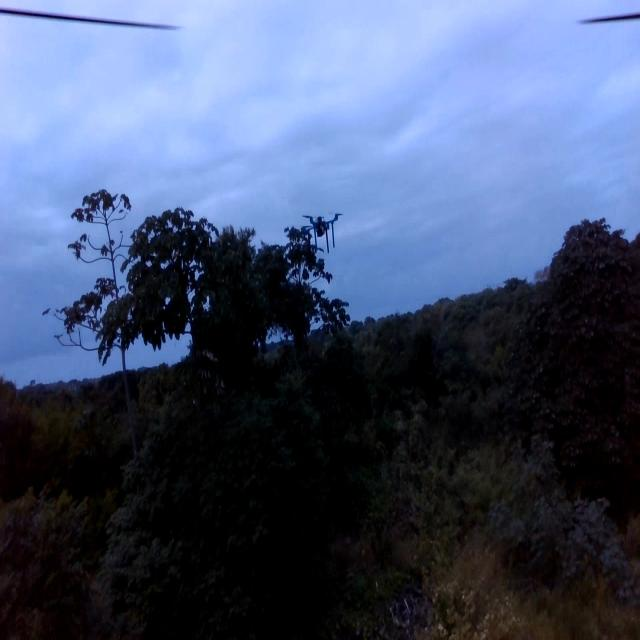-uav-: (292, 200, 371, 267)
